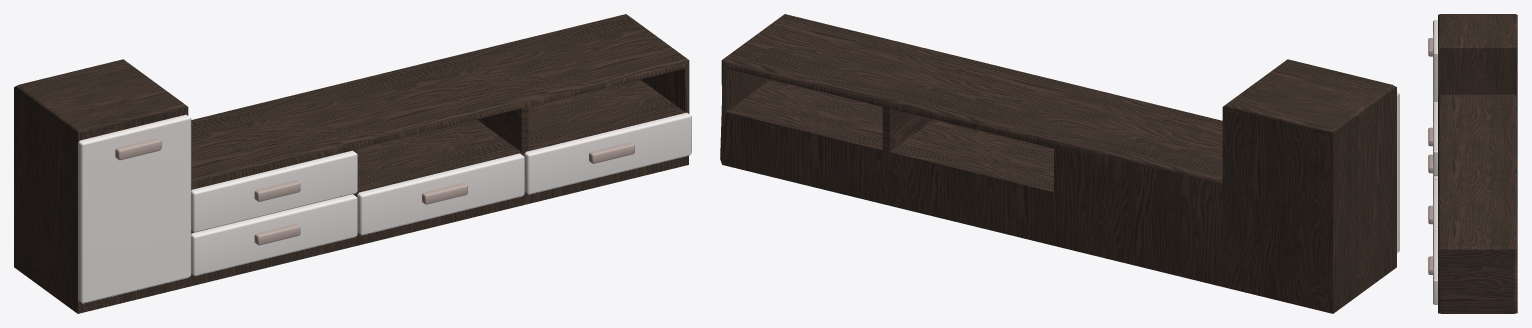
File: wall_cabinet_029.fbx
The picture shows the model from 3 angles, left to right: view 1: azimuth 30°, elevation 25°; view 2: azimuth 150°, elevation 25°; view 3: azimuth 270°, elevation 25°; orthographic projection. The views are drawn at different scales.
Parts seen in each view (by area): view 1: wall_cabinet_029; view 2: wall_cabinet_029; view 3: wall_cabinet_029.
Boxes of the visible parts, x1,y1,x2,y2 form: wall_cabinet_029: (14,14,691,313); wall_cabinet_029: (720,14,1399,313); wall_cabinet_029: (1428,14,1517,313).
Size of the model in its own units: 461 by 92.97 by 131.
